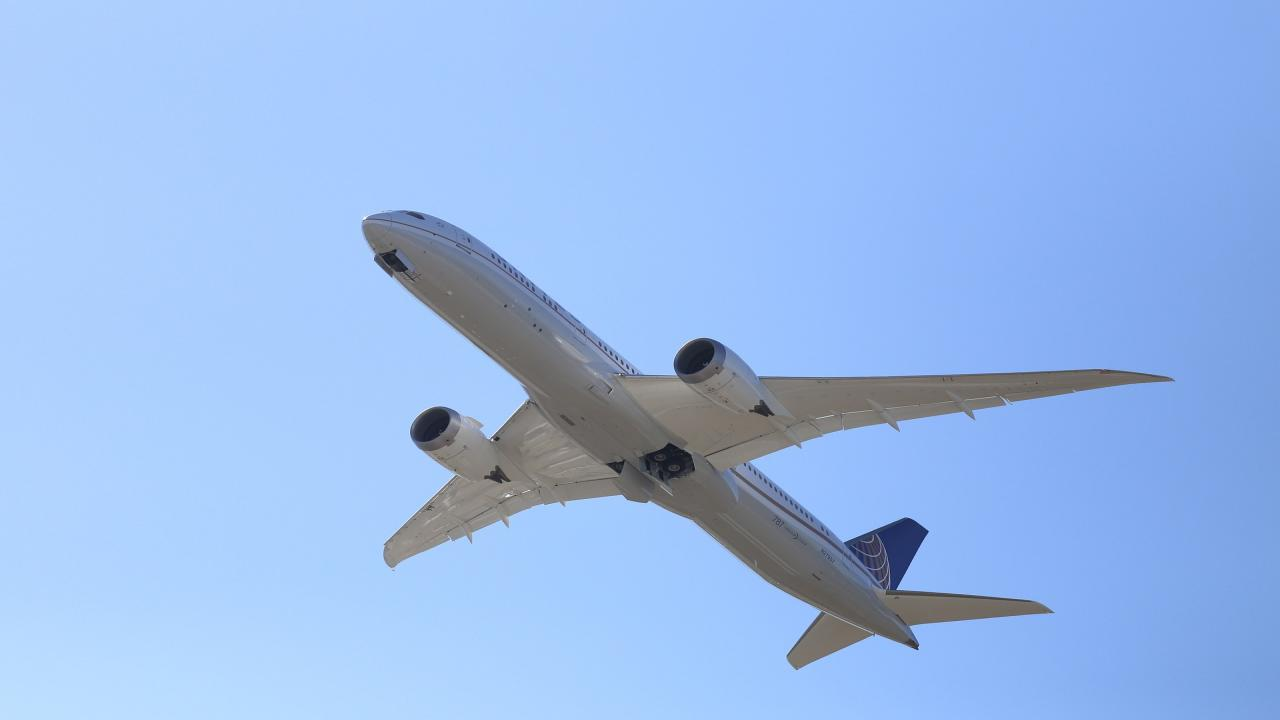Airplane: (347, 201, 1184, 678)
